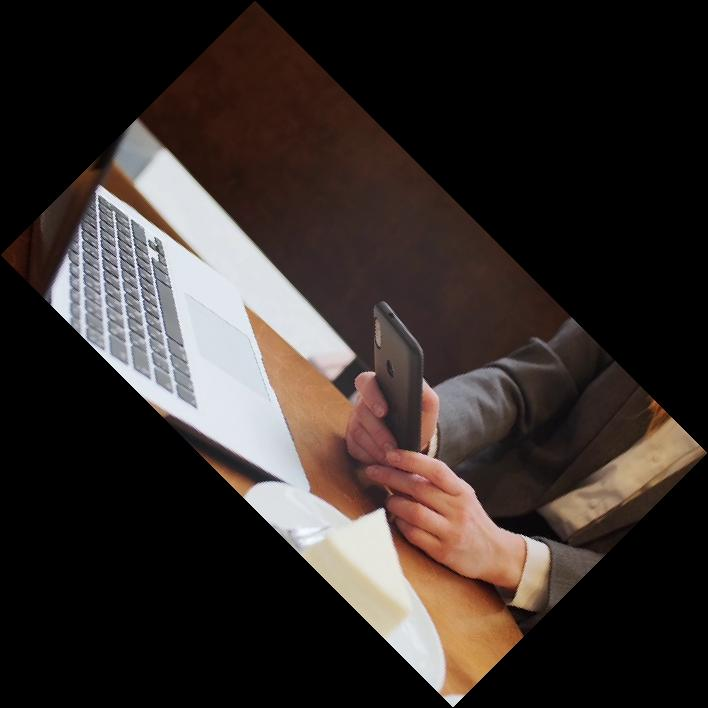phone: (367, 294, 427, 479)
